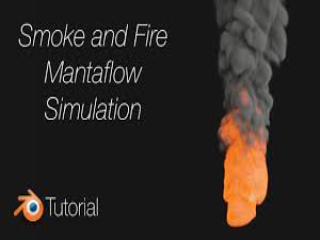smoke: (218, 5, 288, 130), (213, 129, 275, 222)
